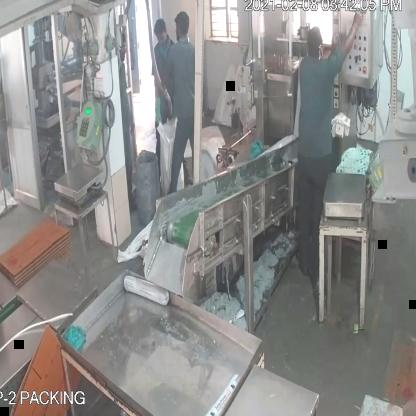no_glove: (336, 2, 368, 66)
